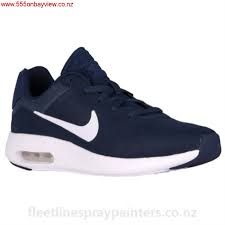nike: (23, 106, 106, 149)
